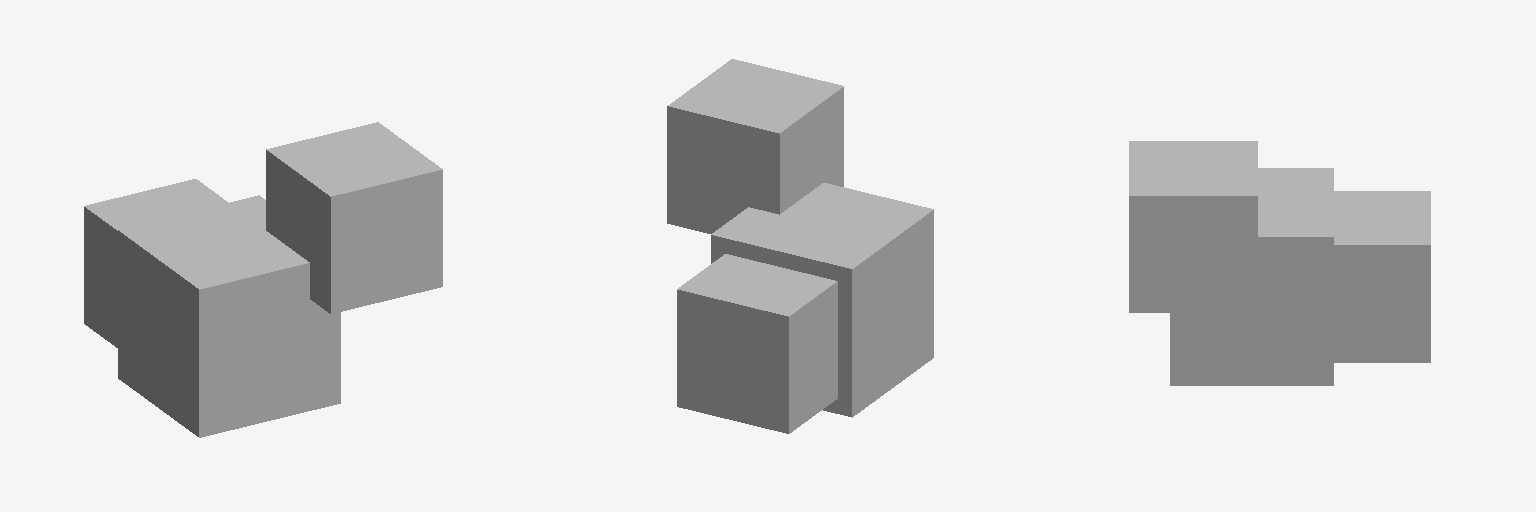
Rendered from 3_cubes.obj.
The picture shows the model from 3 angles: view 1: azimuth 30°, elevation 25°; view 2: azimuth 150°, elevation 25°; view 3: azimuth 270°, elevation 25°; orthographic projection.
Visible parts, largest first — view 1: Cube, Cube.002, Cube.001; view 2: Cube, Cube.001, Cube.002; view 3: Cube, Cube.002, Cube.001.
Part boxes in pixels (bbox=[...]): Cube: bbox=[118, 195, 340, 437]; Cube.002: bbox=[266, 122, 442, 313]; Cube.001: bbox=[84, 179, 228, 347]; Cube: bbox=[711, 183, 933, 417]; Cube.001: bbox=[677, 254, 837, 433]; Cube.002: bbox=[667, 59, 843, 233]; Cube: bbox=[1170, 168, 1333, 385]; Cube.002: bbox=[1129, 141, 1257, 312]; Cube.001: bbox=[1334, 191, 1430, 362].
Bounding box in the file's own units: 3.15 × 3.09 × 3.7.